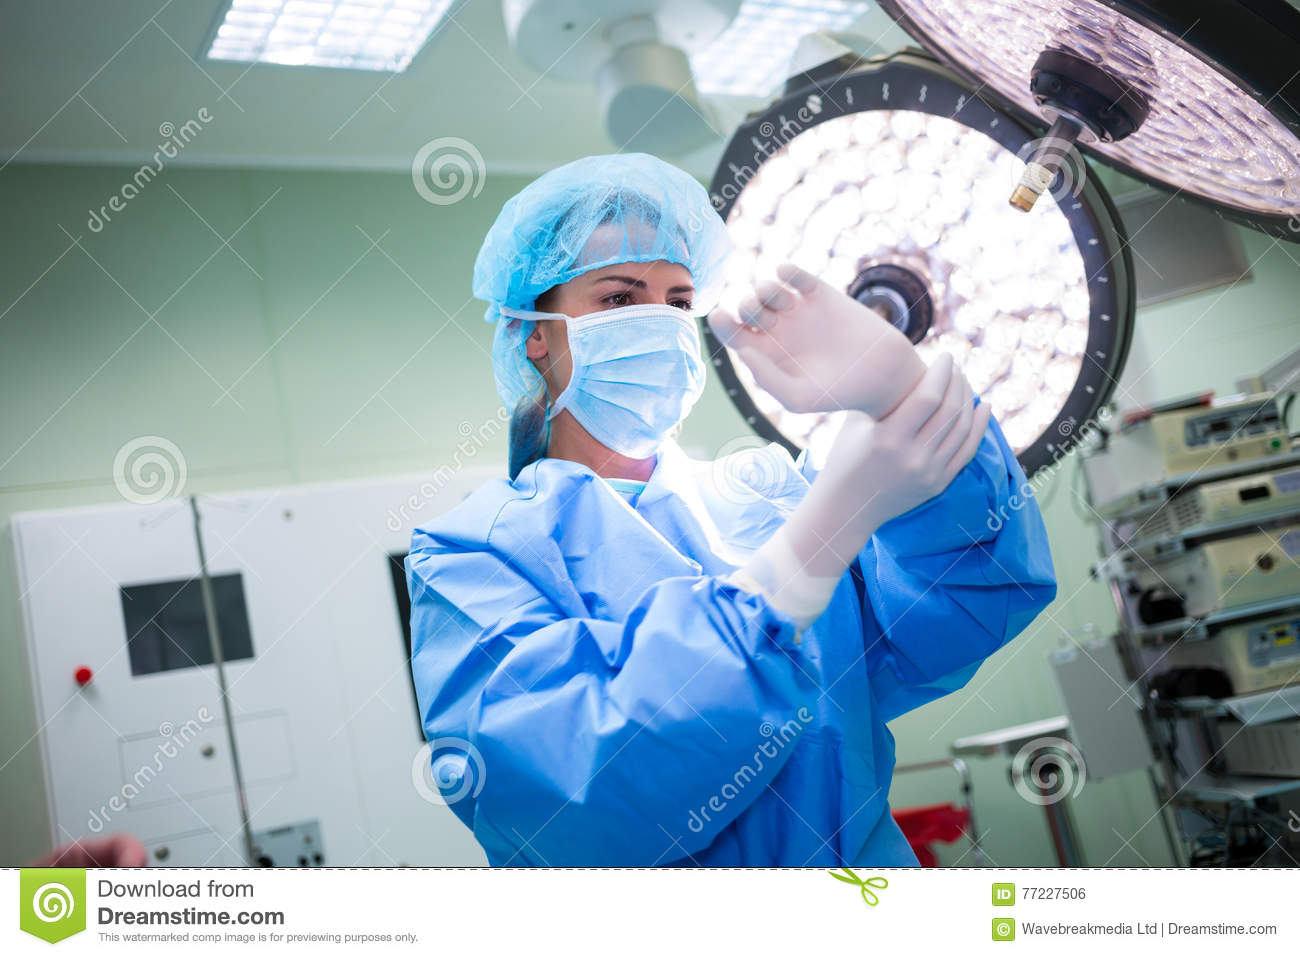mask: (551, 309, 720, 462)
